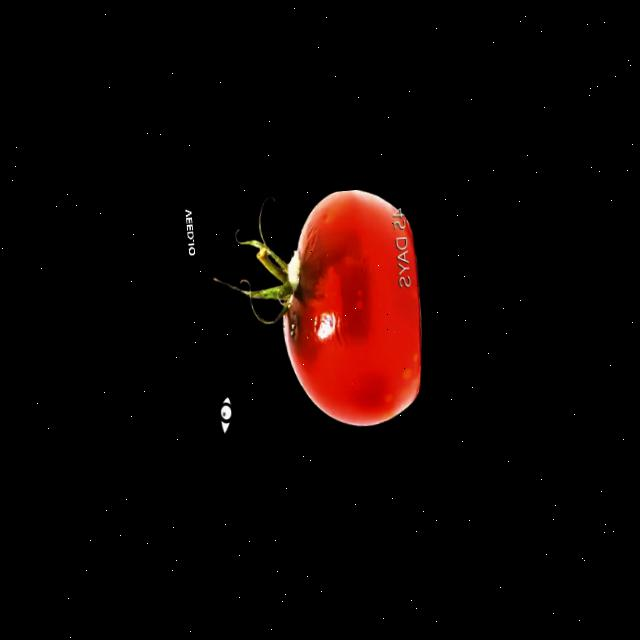tomato: (248, 184, 432, 436)
